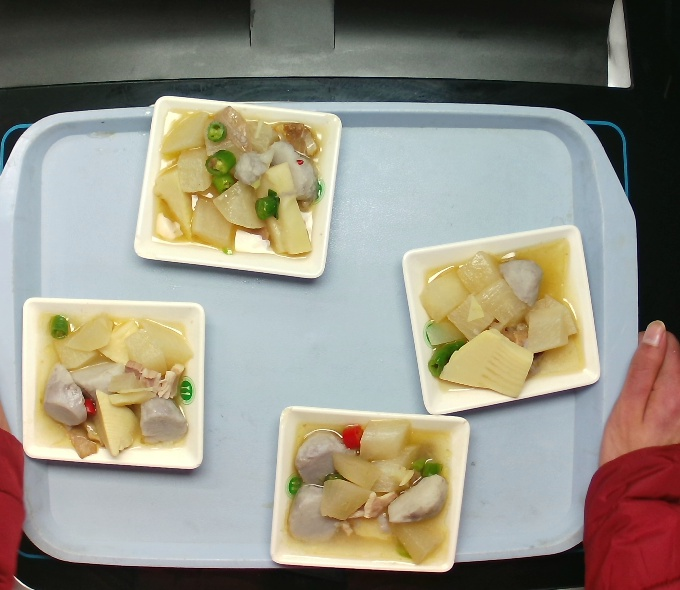wcq-YangYuChunSunDunLuoBo: (152, 104, 329, 264), (280, 414, 459, 568), (416, 245, 591, 401), (33, 307, 197, 466)
